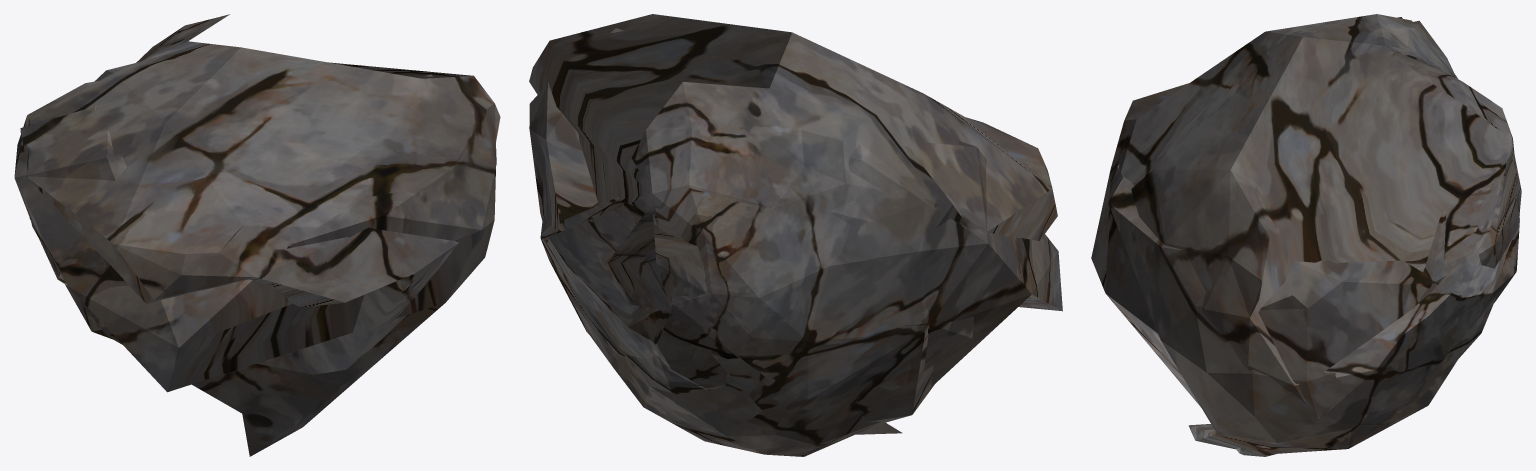
Rendered from rock_m2.fbx.
3 renders of one model, left to right at view 1: azimuth 30°, elevation 25°; view 2: azimuth 150°, elevation 25°; view 3: azimuth 270°, elevation 25°, orthographic. The views are drawn at different scales.
Visible parts, largest first — view 1: Rock2; view 2: Rock2; view 3: Rock2.
Part boxes in pixels (x1,y1,x2,y2): Rock2: (14,14,500,456); Rock2: (529,14,1062,456); Rock2: (1091,14,1521,456).
Bounding box in the file's own units: 2.14 × 1.7 × 1.61.
